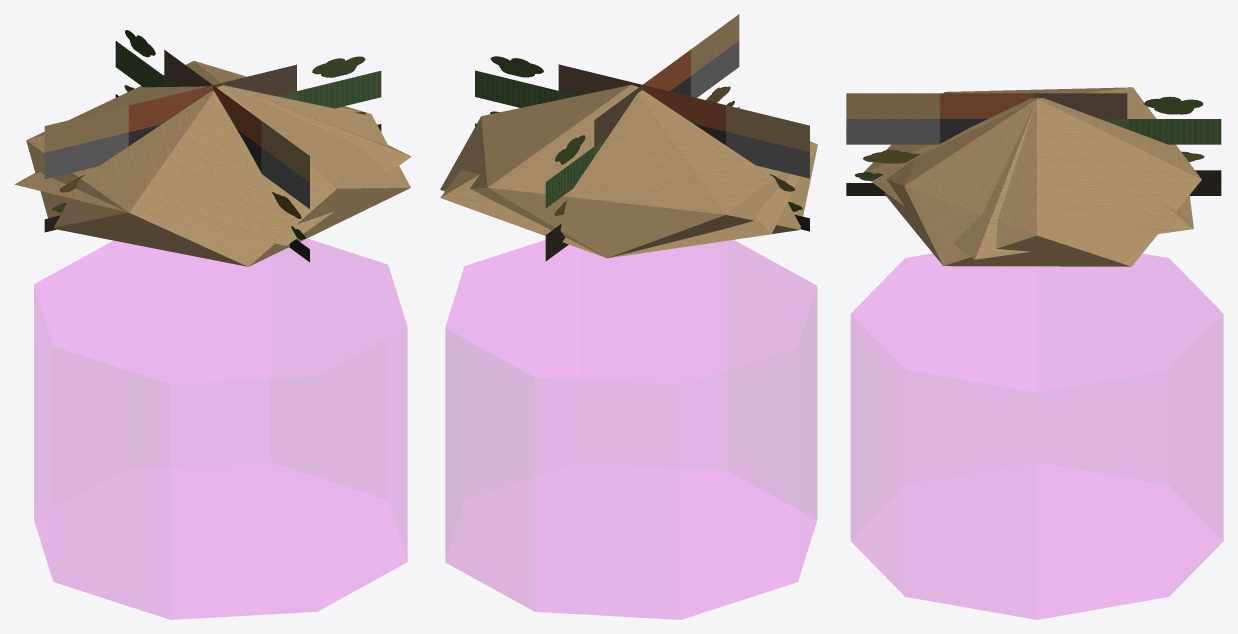
The model's file is rock_small_tan_a.dae.
3 views of the same model, side by side, from view 1: azimuth 30°, elevation 25°; view 2: azimuth 150°, elevation 25°; view 3: azimuth 270°, elevation 25° (orthographic). The views are drawn at different scales.
Parts seen in each view (by area): view 1: Colmesh_rock-1, rock_small_tan_a_a800, rock_small_tan_a_a50, rock_small_tan_a_a200; view 2: Colmesh_rock-1, rock_small_tan_a_a800, rock_small_tan_a_a50, rock_small_tan_a_a200; view 3: Colmesh_rock-1, rock_small_tan_a_a800, rock_small_tan_a_a50, rock_small_tan_a_a200.
Part boxes in pixels (box(x1,y1,x2,y2)): Colmesh_rock-1: box(34, 238, 407, 619); rock_small_tan_a_a800: box(26, 61, 410, 266); rock_small_tan_a_a50: box(44, 30, 381, 262); rock_small_tan_a_a200: box(14, 83, 411, 245); Colmesh_rock-1: box(445, 240, 816, 619); rock_small_tan_a_a800: box(440, 85, 817, 258); rock_small_tan_a_a50: box(475, 14, 809, 261); rock_small_tan_a_a200: box(440, 141, 817, 257); Colmesh_rock-1: box(851, 253, 1223, 619); rock_small_tan_a_a800: box(885, 87, 1201, 266); rock_small_tan_a_a50: box(846, 93, 1221, 195); rock_small_tan_a_a200: box(863, 92, 1193, 259).
Size of the model in its own units: 0.5103 by 0.5007 by 0.6487.
2 materials, 1 textured.
